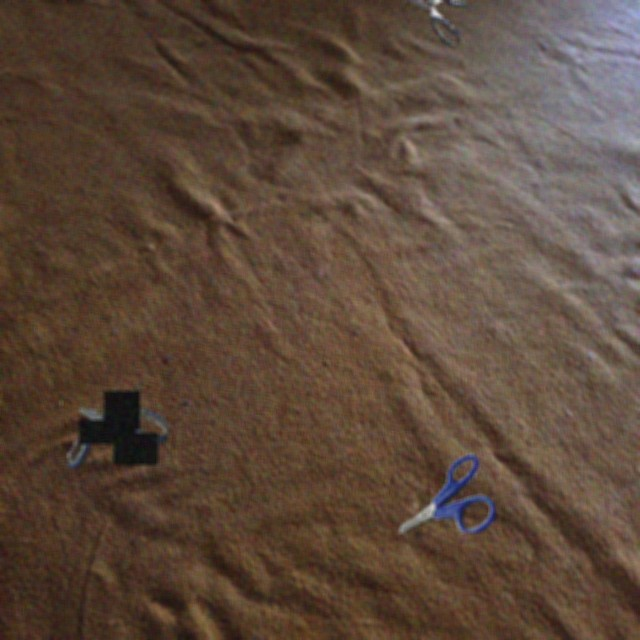scissors: (61, 390, 168, 468), (399, 454, 495, 533), (404, 0, 467, 46)
